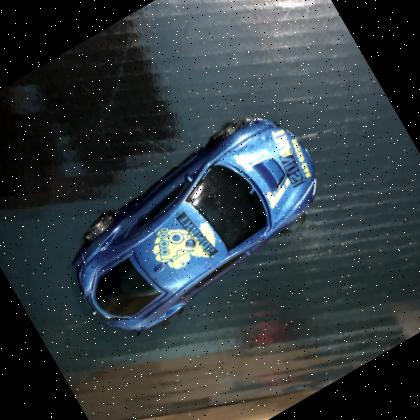Car: (41, 94, 352, 359)
